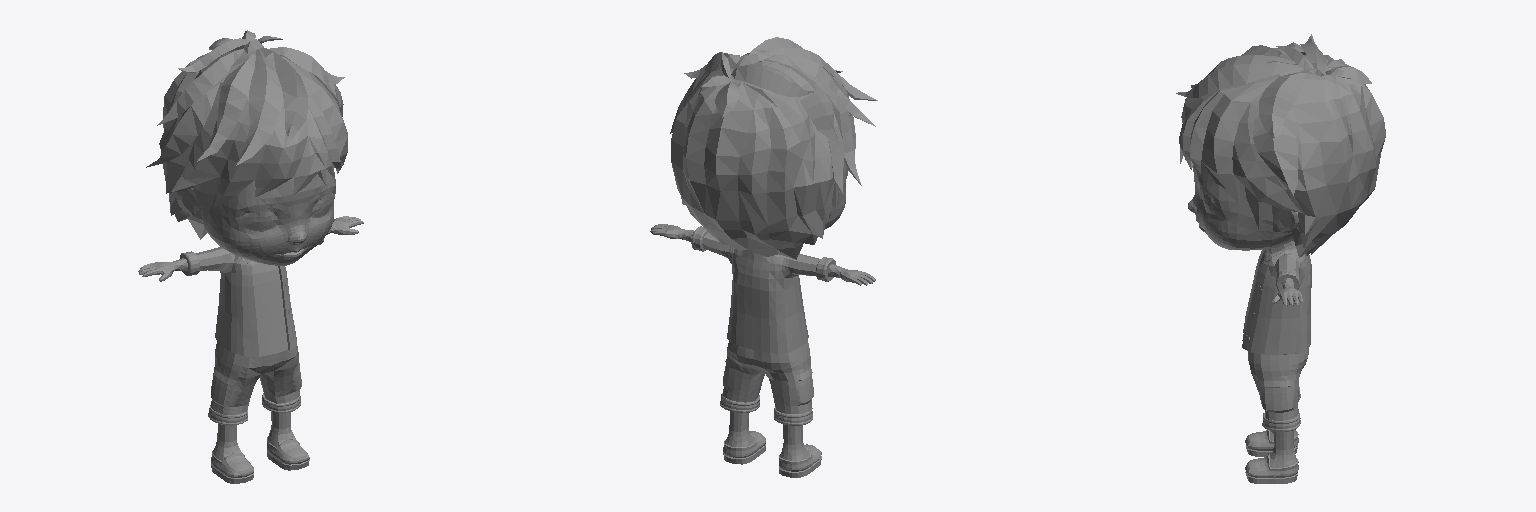
The model's file is Boy_Highres.obj.
3 views of the same model, side by side, from view 1: azimuth 30°, elevation 25°; view 2: azimuth 150°, elevation 25°; view 3: azimuth 270°, elevation 25° (orthographic).
Visible parts, largest first — view 1: Plane008, Box004; view 2: Box004, Plane008; view 3: Box004, Plane008.
Boxes of the visible parts, x1,y1,x2,y2 form: Plane008: [138, 167, 363, 483]; Box004: [146, 30, 347, 239]; Box004: [670, 37, 877, 259]; Plane008: [650, 162, 875, 477]; Box004: [1176, 34, 1385, 257]; Plane008: [1188, 162, 1311, 483].
Size of the model in its own units: 87.09 by 156 by 72.22.